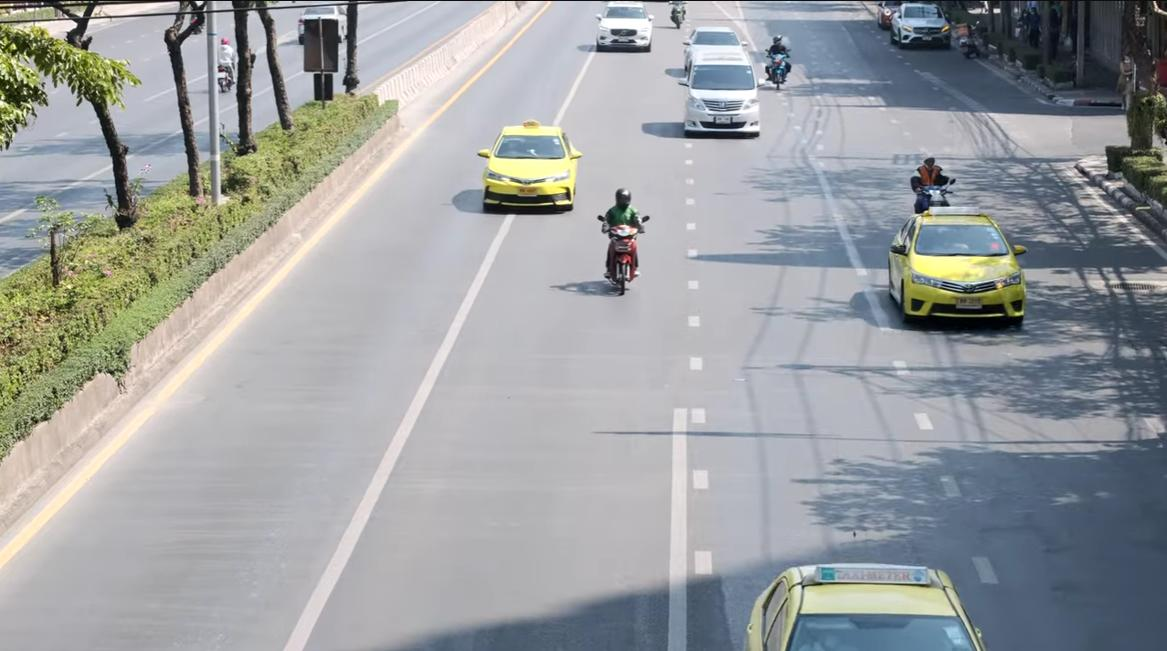car: (904, 208, 1058, 380), (744, 569, 1009, 651), (474, 104, 592, 248), (894, 0, 969, 55), (599, 3, 671, 60)
motorcycle: (608, 176, 664, 314), (905, 138, 982, 213), (763, 32, 809, 96), (217, 46, 245, 103), (671, 4, 695, 45)
